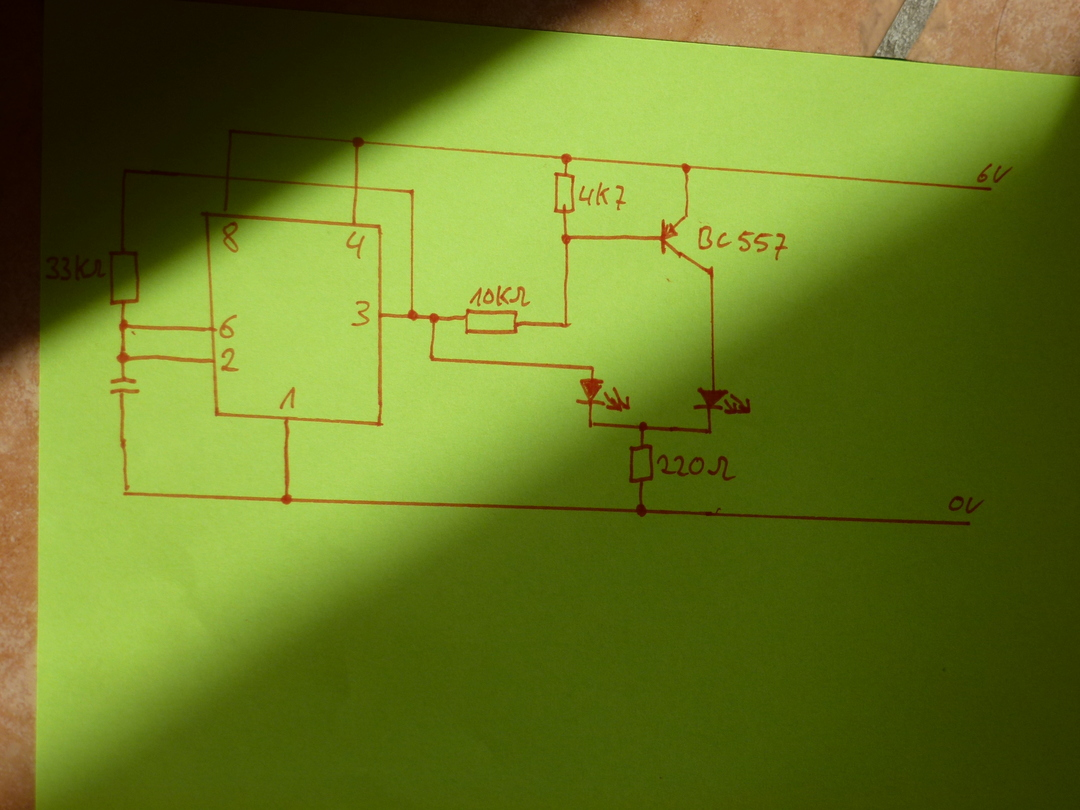capacitor.unpolarized: (109, 374, 142, 399)
crossover: (350, 181, 365, 194), (222, 172, 237, 184)
diode.light_emitting: (575, 377, 631, 413), (692, 386, 752, 416)
integrated_cricuit.ne555: (199, 210, 385, 429)
junction: (116, 317, 134, 335), (349, 135, 368, 151), (114, 350, 133, 366), (557, 230, 574, 246), (279, 492, 296, 508), (634, 502, 650, 519), (405, 308, 420, 324), (559, 152, 574, 167), (679, 161, 694, 175), (427, 311, 441, 325), (637, 420, 651, 434), (118, 165, 131, 179), (561, 317, 573, 332), (121, 484, 133, 499), (426, 352, 438, 365), (405, 186, 419, 197), (704, 425, 716, 437), (586, 419, 598, 431), (587, 362, 598, 373), (227, 127, 235, 135)
resistor: (108, 248, 141, 308), (462, 308, 522, 337), (628, 442, 655, 486), (553, 171, 577, 217)
terminal: (964, 518, 975, 529), (984, 185, 996, 194)
text: (697, 223, 789, 262), (656, 453, 737, 483), (41, 253, 108, 282), (577, 181, 628, 212), (468, 284, 532, 308), (975, 162, 1013, 184), (219, 220, 242, 254), (948, 495, 985, 515), (345, 229, 368, 261), (350, 299, 372, 328), (219, 347, 240, 373), (218, 313, 239, 339), (278, 386, 297, 412)
transistor: (659, 213, 717, 276)
